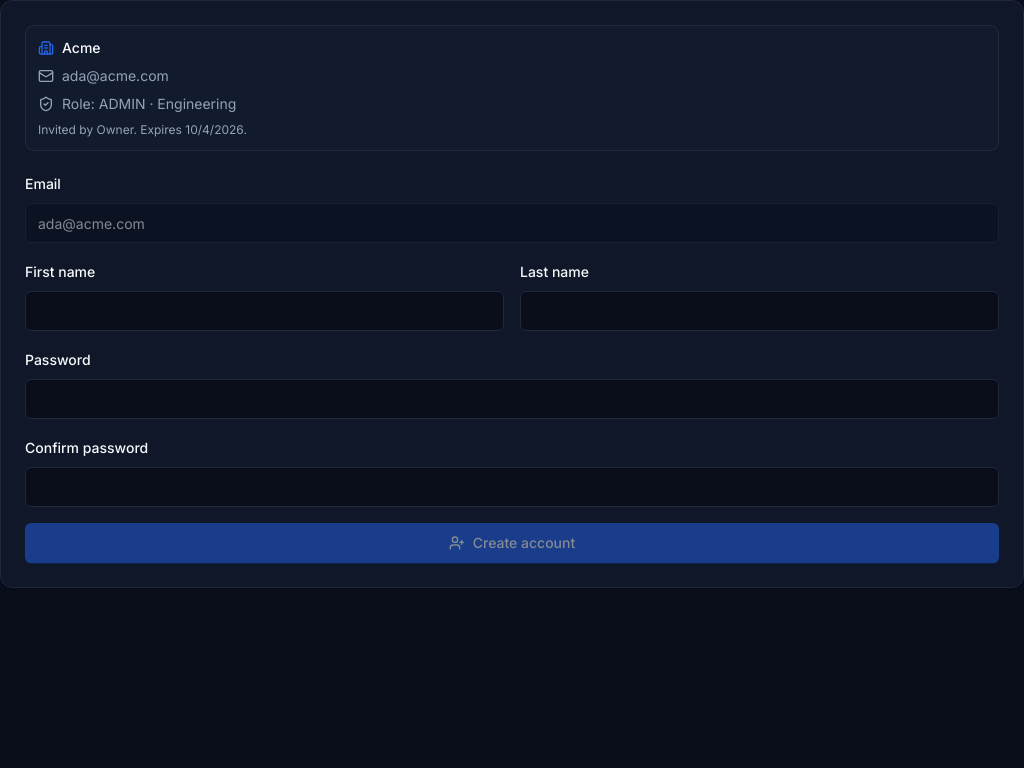
Scenario: AcceptInvitationPage — validation (§11, §17) › keeps submit disabled until every requirement is met
This screenshot has width=1024, height=768.
Expected: the text "Acme" is shown, [62,38,101,58]
Expected: the button "Create account" is disabled, [25,523,999,563]
In the field labelled "First name": (264, 311) [25,291,504,331], type "Ada"
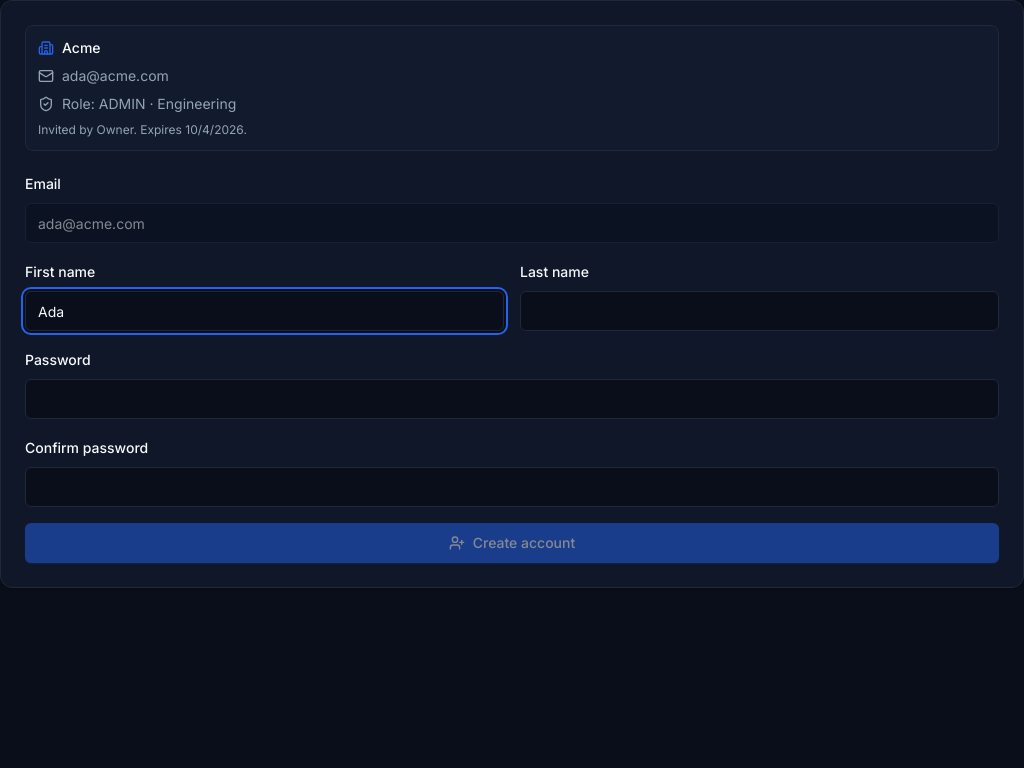
In the field labelled "Last name": (760, 311) [520,291,999,331], type "Lovelace"
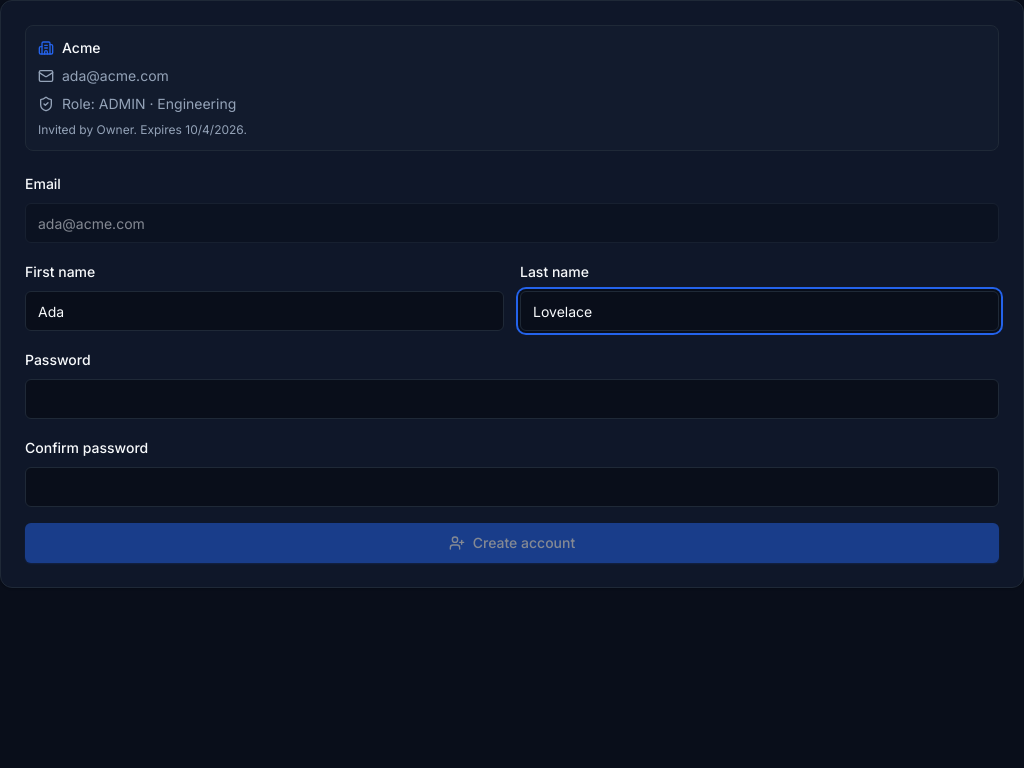
Expected: the button "Create account" is disabled, [25,523,999,563]
In the password field labelled "Password": (512, 399) [25,379,999,419], type "Str0ngP@ssword!"
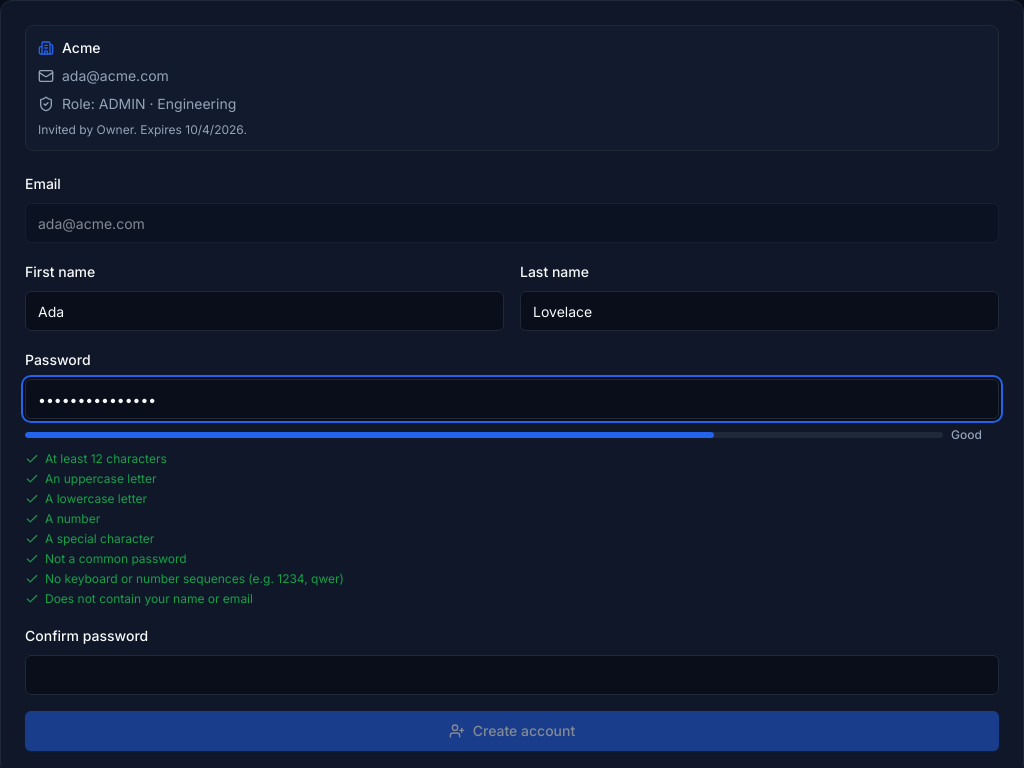
Expected: the button "Create account" is disabled, [25,711,999,751]
In the password field labelled "Confirm password": (512, 675) [25,655,999,695], type "Str0ngP@ssword!"
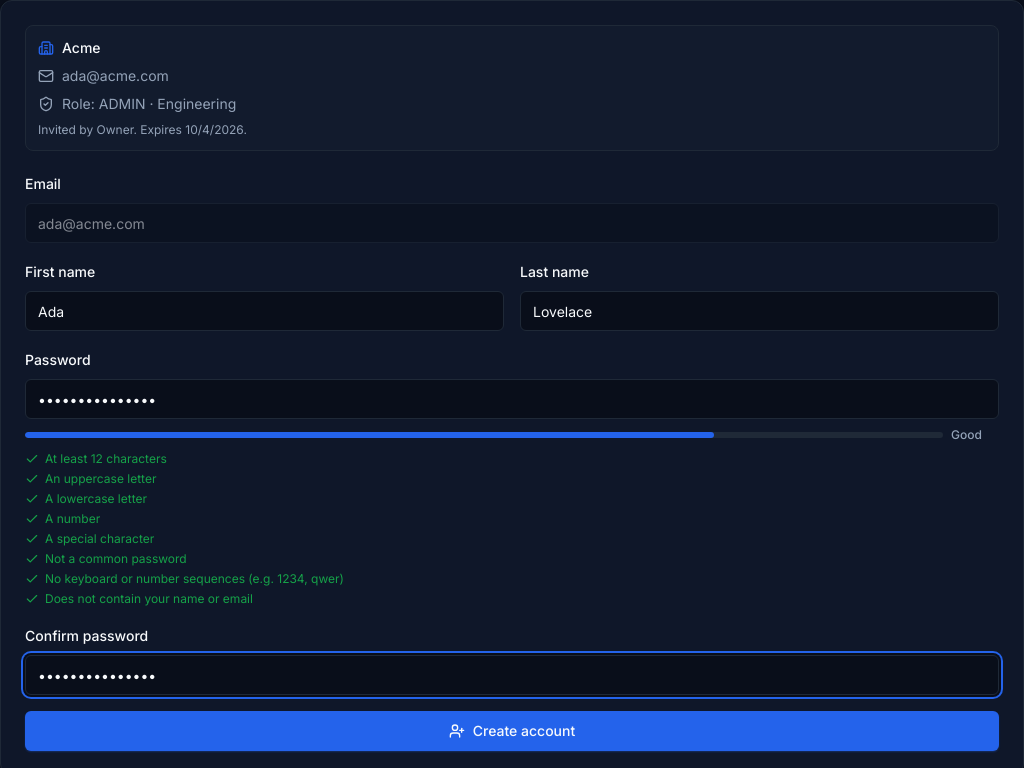
Now the button "Create account" is enabled, box [25,711,999,751]
